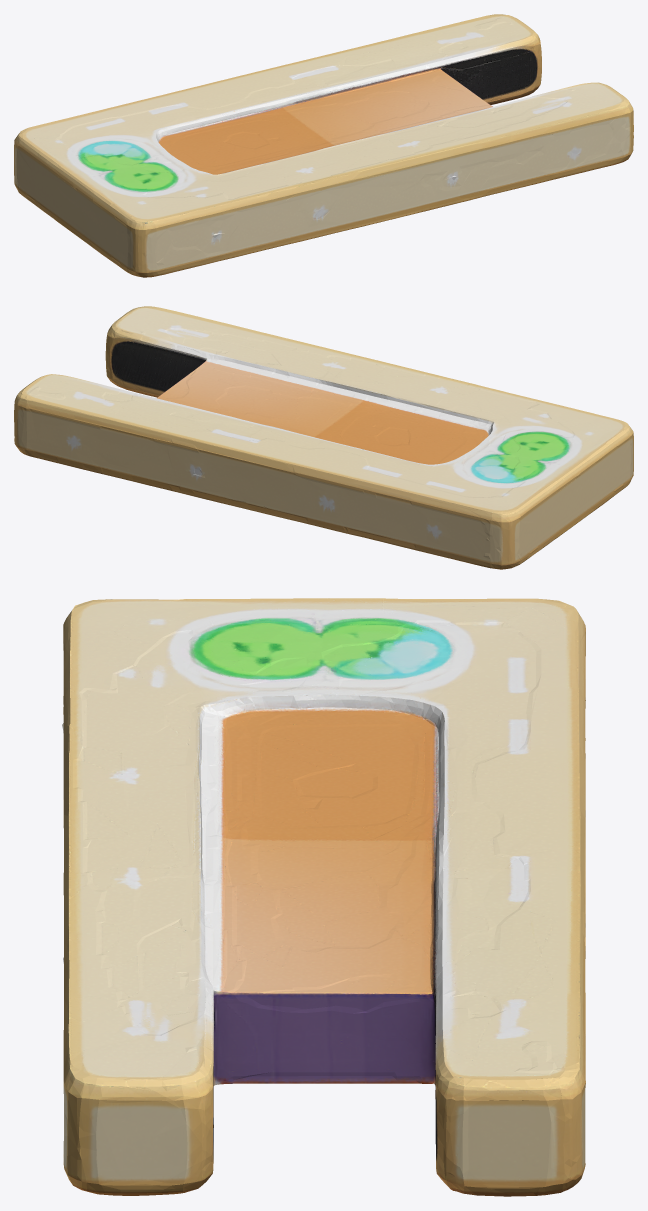
The model's file is COMMON_사물_ui_booster_banner.glb.
3 renders of one model, top to bottom at view 1: azimuth 30°, elevation 25°; view 2: azimuth 150°, elevation 25°; view 3: azimuth 270°, elevation 25°, orthographic. The views are drawn at different scales.
Visible parts, largest first — view 1: world; view 2: world; view 3: world.
Boxes of the visible parts, x1,y1,x2,y2 form: world: [14, 14, 633, 277]; world: [14, 306, 633, 569]; world: [62, 598, 585, 1196].
Bounding box in the file's own units: 1 × 0.1114 × 0.4518.
Materials: 1 (1 with a texture image).
